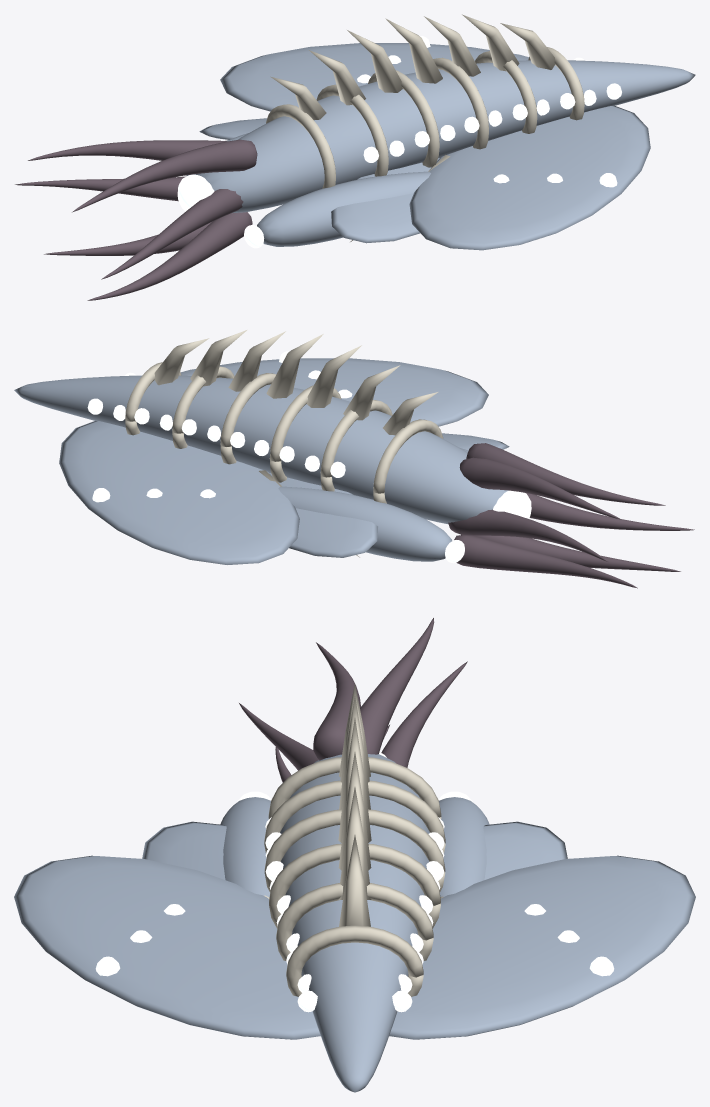
File: organic_titan.glb
3 renders of one model, top to bottom at view 1: azimuth 30°, elevation 25°; view 2: azimuth 150°, elevation 25°; view 3: azimuth 270°, elevation 25°, orthographic. The views are drawn at different scales.
Visible parts, largest first — view 1: organic_titan; view 2: organic_titan; view 3: organic_titan.
Part boxes in pixels (bbox=[...]): organic_titan: bbox=[15, 14, 695, 300]; organic_titan: bbox=[14, 330, 694, 588]; organic_titan: bbox=[14, 618, 695, 1092].
Size of the model in its own units: 3 by 0.8481 by 2.1.
